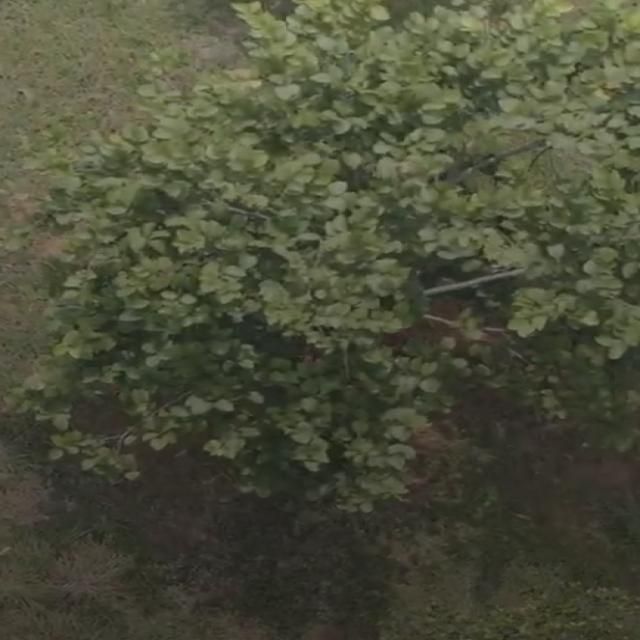notMangoTree: (22, 0, 640, 535)
